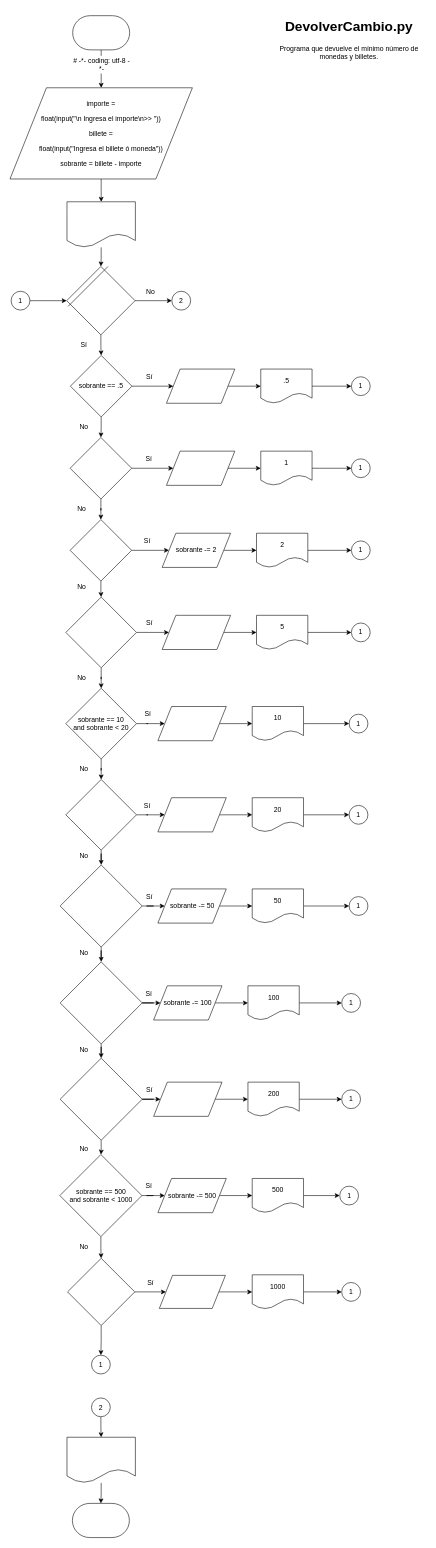
Some shapes in this 436 by 1548 pixel diagram are drawn without their labels. The shapes that lost their labels are listed below. From the top down, each one's centre as x and y in pixels, then its label:
[100,224]: "\nTome su cambio:"
[100,300]: sobrante != 0
[200,386]: sobrante -= .5
[101,468]: sobrante == 1
[200,468]: sobrante -= 1
[101,550]: sobrante == 2
[101,632]: sobrante == 5 and sobrante < 10
[196,632]: sobrante -= 5
[191,723]: sobrante -= 10
[101,814]: sobrante == 20 and sobrante < 50
[191,814]: sobrante -= 20
[101,905]: sobrante == 50 and sobrante < 100
[101,1002]: sobrante == 100 and sobrante < 200
[101,1099]: sobrante == 200 and sobrante < 500
[187,1099]: sobrante -= 200
[101,1292]: sobrante >= 1000
[192,1291]: sobrante -= 1000
[100,1460]: "\n Vuelva pronto por galletas!\n"
